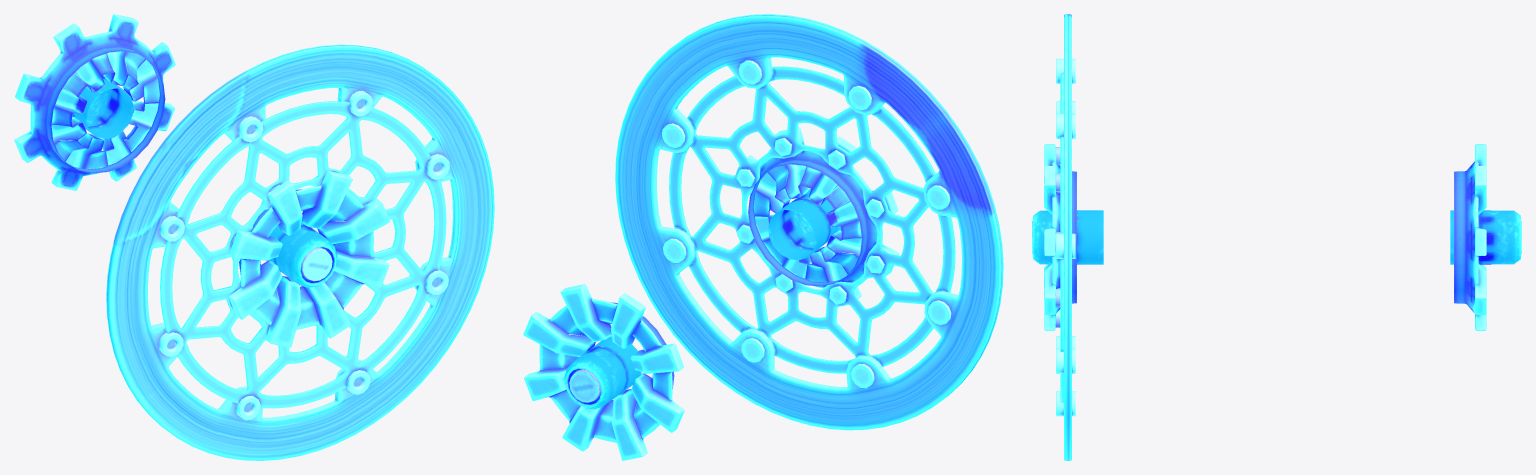
Rendered from SM_CP_Motorcycle01_Wheel_Back_BrakeDisk.fbx.
The picture shows the model from 3 angles, left to right: view 1: azimuth 30°, elevation 25°; view 2: azimuth 150°, elevation 25°; view 3: azimuth 270°, elevation 25°; orthographic projection.
Visible parts, largest first — view 1: SM_CP_Motorcycle01_Wheel_Back_BrakeDisk_LOD0; view 2: SM_CP_Motorcycle01_Wheel_Back_BrakeDisk_LOD0; view 3: SM_CP_Motorcycle01_Wheel_Back_BrakeDisk_LOD0.
Boxes of the visible parts, x1,y1,x2,y2 form: SM_CP_Motorcycle01_Wheel_Back_BrakeDisk_LOD0: [14, 14, 494, 460]; SM_CP_Motorcycle01_Wheel_Back_BrakeDisk_LOD0: [523, 14, 1003, 460]; SM_CP_Motorcycle01_Wheel_Back_BrakeDisk_LOD0: [1032, 14, 1521, 460].
Bounding box in the file's own units: 38.91 × 42.62 × 38.91.
